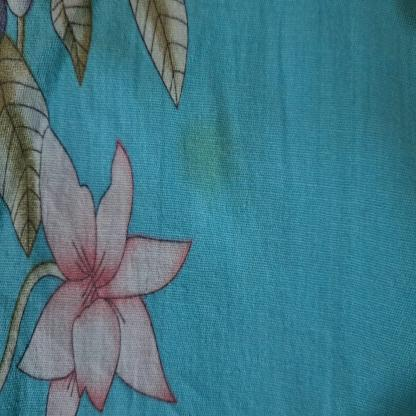spot: (176, 79, 241, 204)
